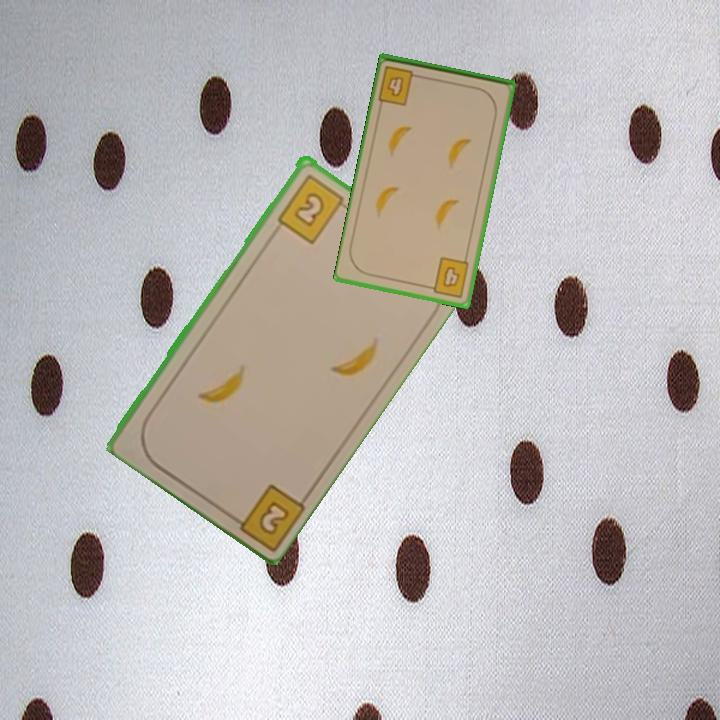2b: (223, 479, 308, 551), (273, 170, 353, 246)
4b: (375, 62, 425, 108), (424, 253, 472, 300)
